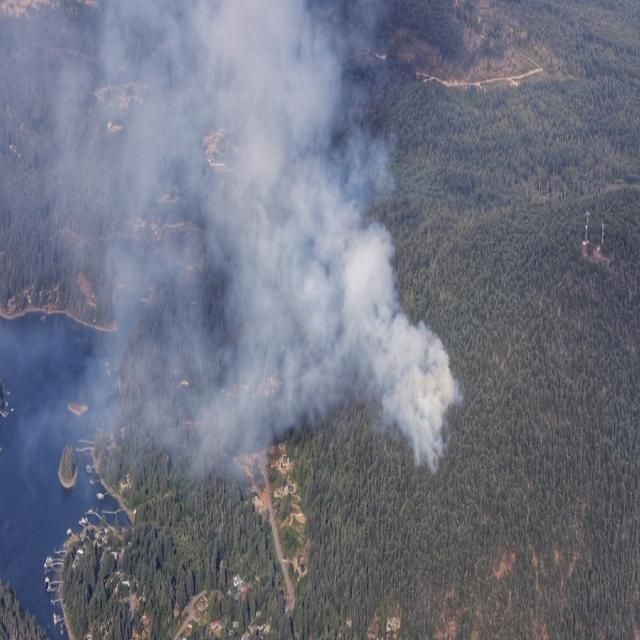Smoke: (50, 0, 446, 456)
